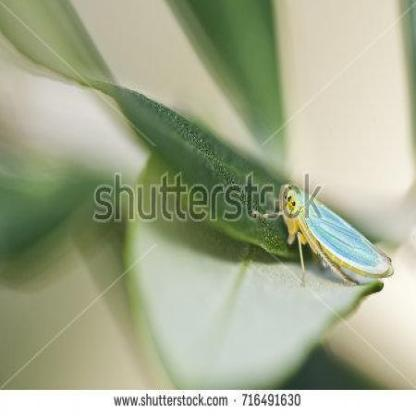Green-Leafhopper: (280, 178, 396, 291)
